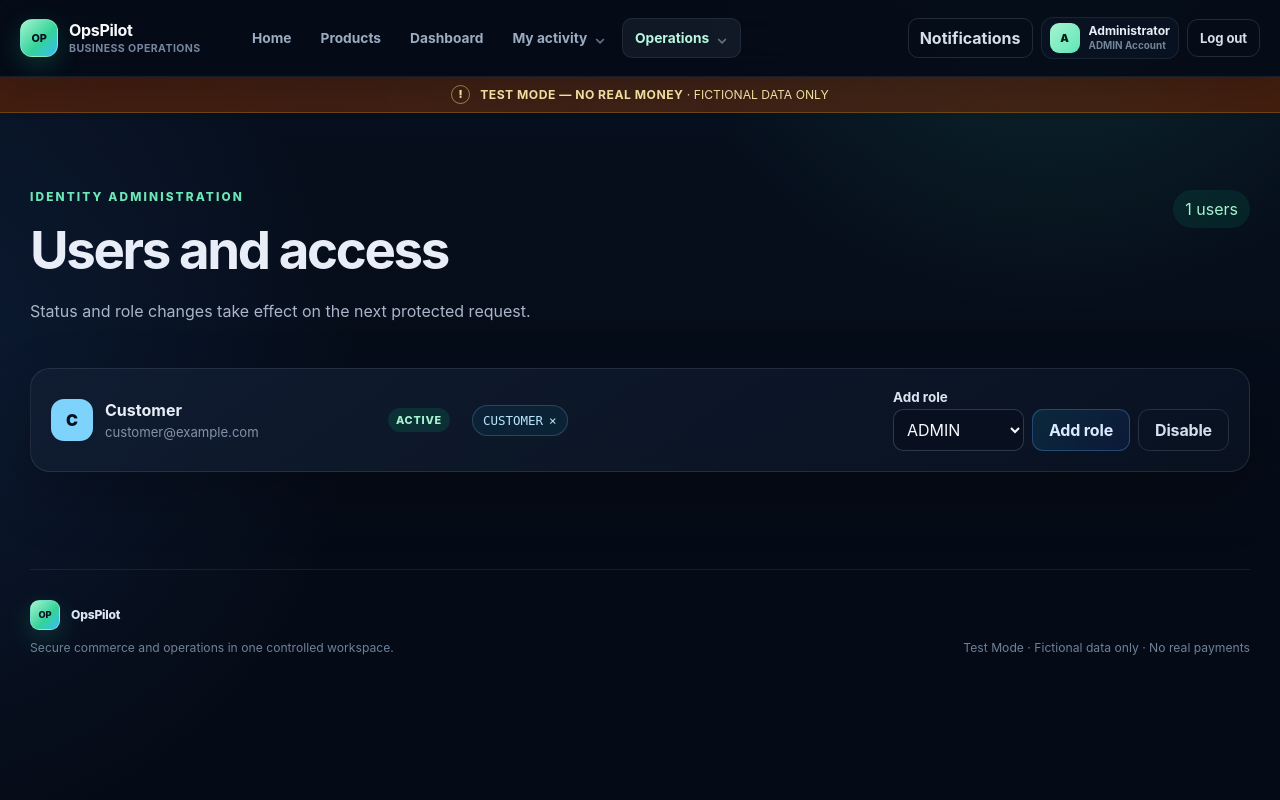
Test: OpsPilot web authentication › loads the authorized user list and forwards CSRF for a status change
The image size is (1280, 800).
Expected: the heading "Users and access" is shown, [30,218,448,282]
Click the button "Disable" at (1184, 430), box [1138,409,1229,451]
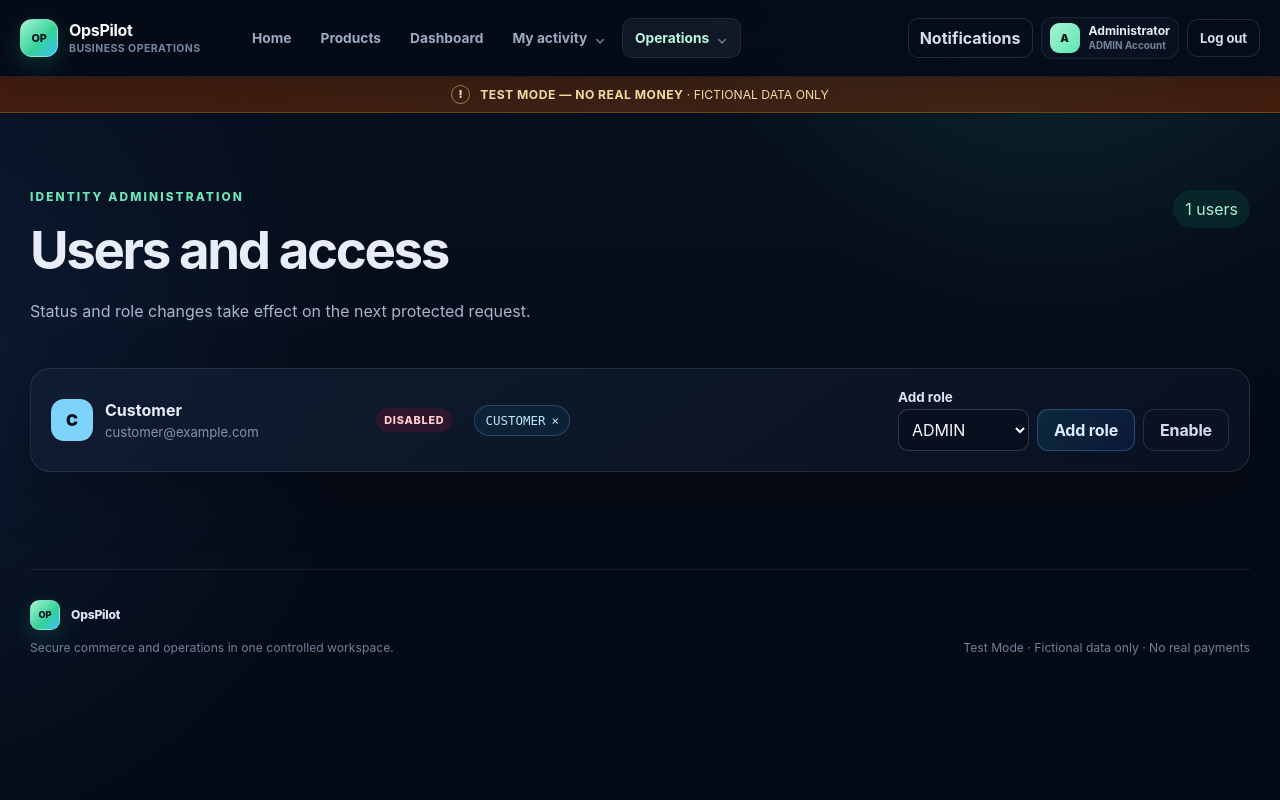
Now the text "DISABLED" is shown, box [376,408,452,432]
